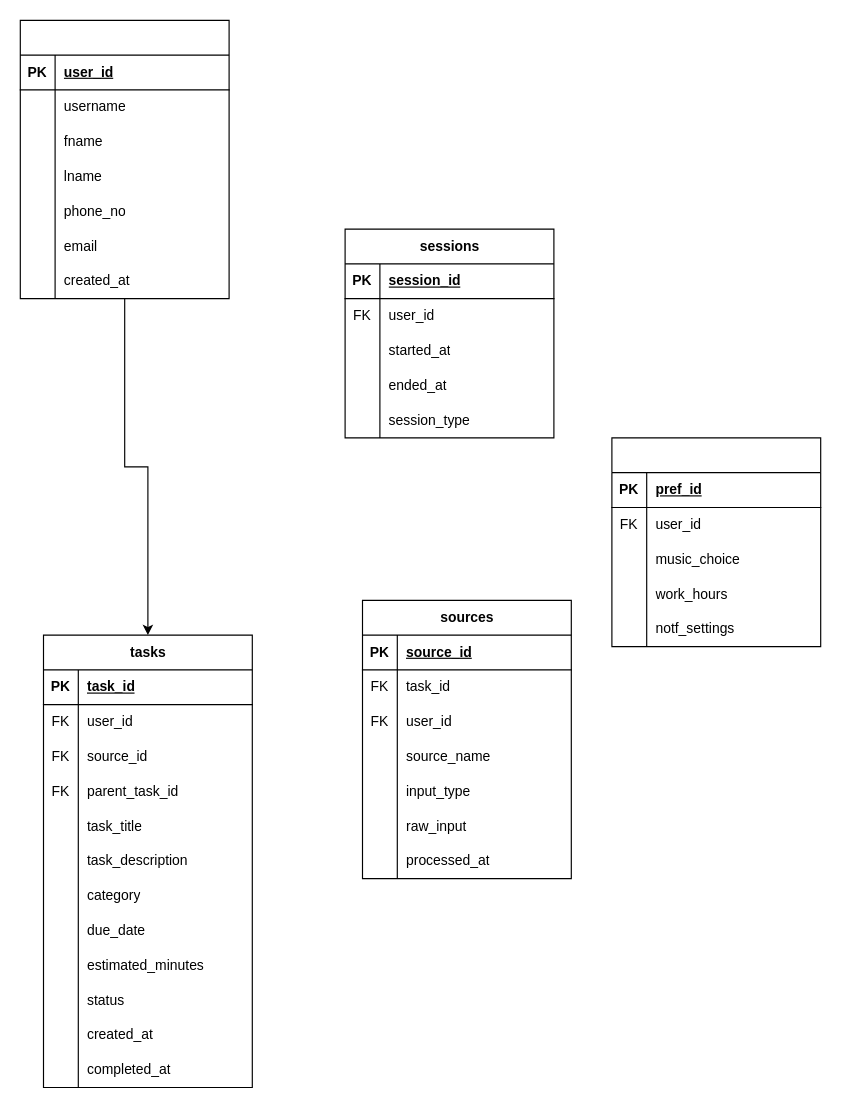
Some shapes in this 841 by 1108 pixel diagram are drawn without their labels. The box of each missing label's shape, as (x1, y1, x2, y2) in pixels:
user_preference: (611, 437, 821, 647)
users: (19, 19, 229, 299)
